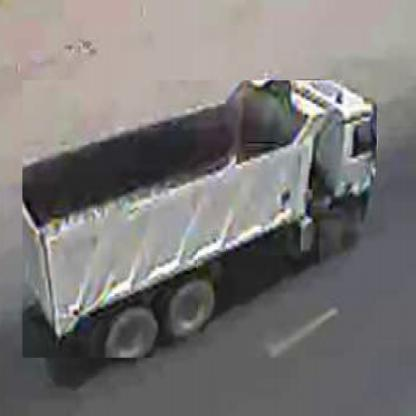truck: (22, 82, 378, 361)
